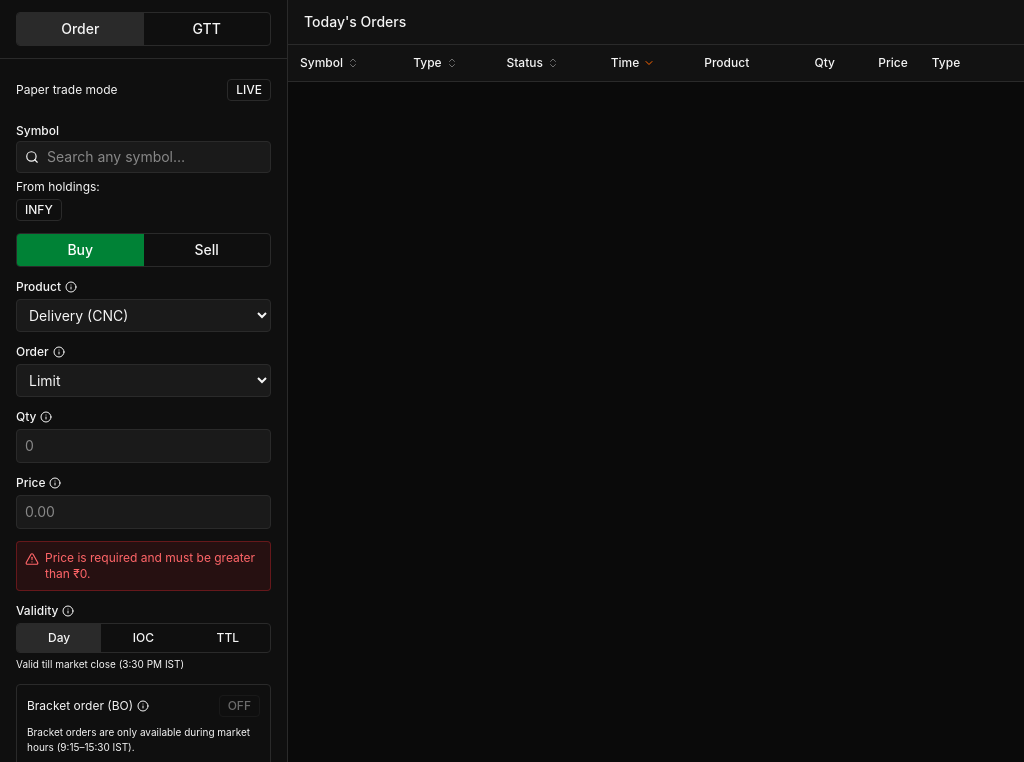
Orders — KITE-TICK-SIZE: tick-size validation › falls back to ₹0.05 for NSE equity when no instrument tick_size is available
This screenshot has width=1024, height=762.
Click the button "INFY" at {"x": 39, "y": 210}, box [16, 199, 62, 221]
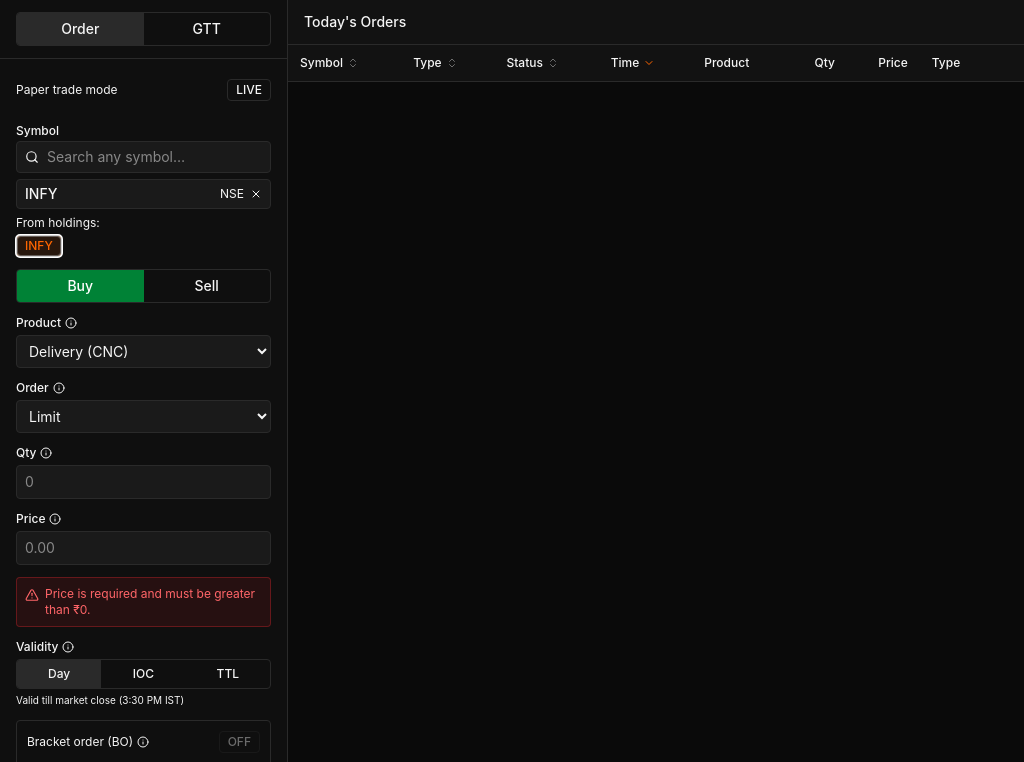
Type "1500.03" into the number field with placeholder "0.00" at {"x": 144, "y": 548}, box [16, 531, 271, 565]
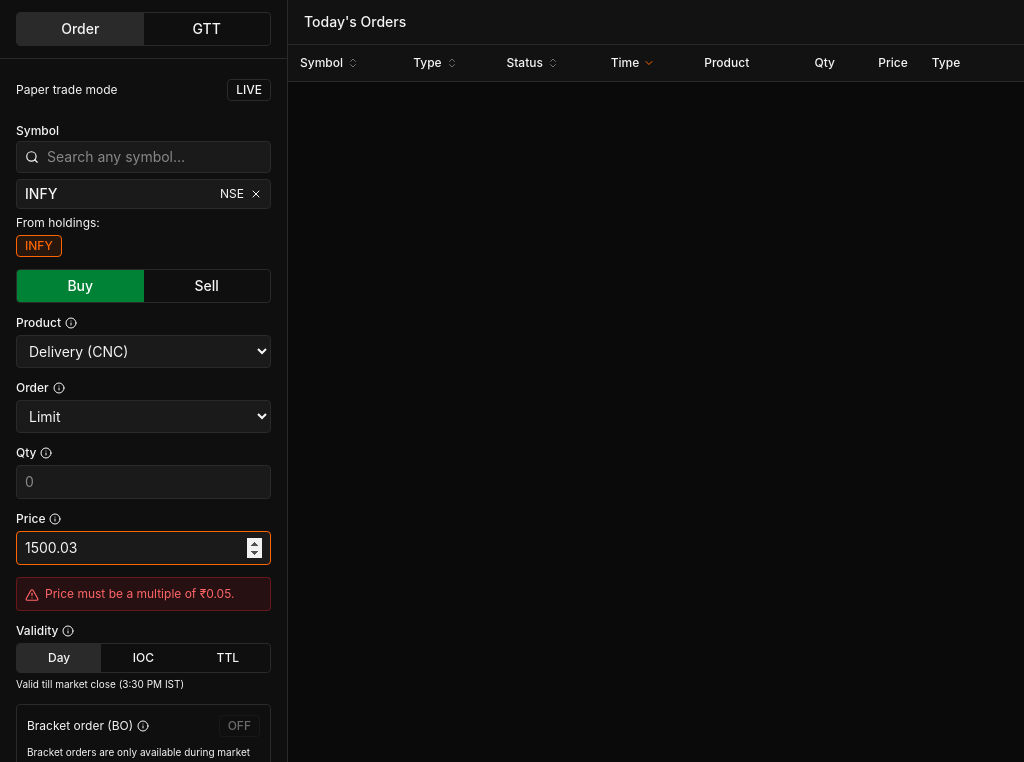
Now the text "Price must be a multiple of ₹0.05." is shown, box [45, 586, 234, 602]
